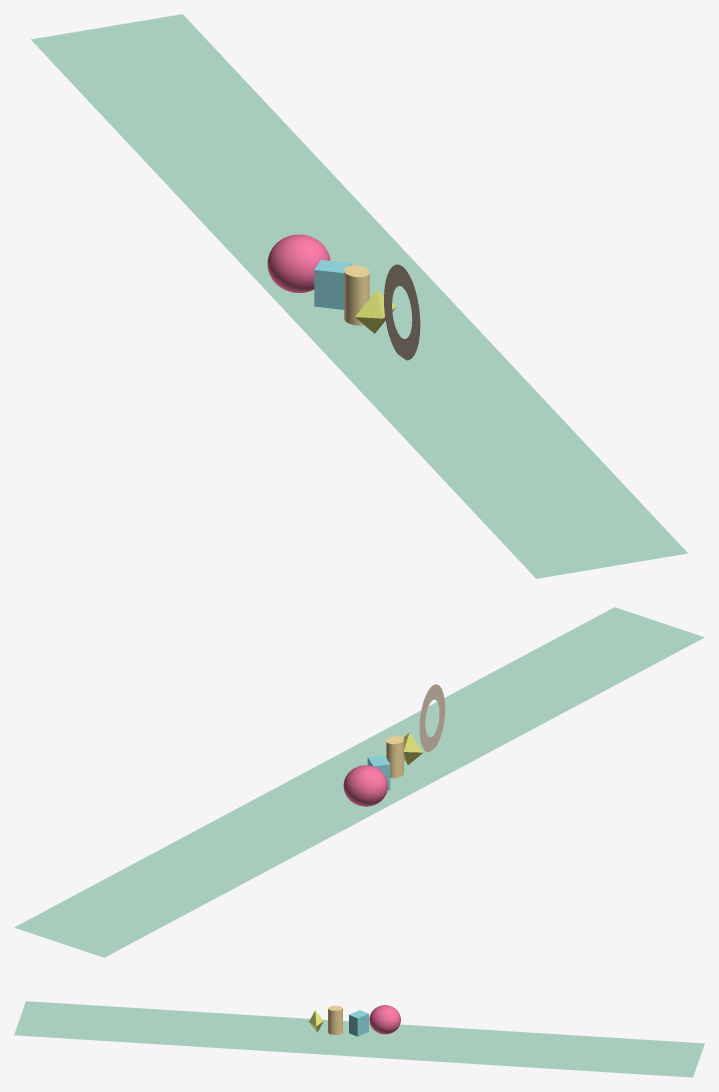
File: aframe-io-aframe-examples-boilerplate-hello-world.glb
3 views of the same model, one above another, from view 1: azimuth 30°, elevation 25°; view 2: azimuth 150°, elevation 25°; view 3: azimuth 270°, elevation 25° (orthographic). The views are drawn at different scales.
Size of the model in its own units: 17.63 by 5.11 by 67.28.
